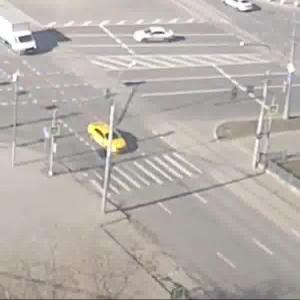car: (1, 1, 42, 57), (86, 122, 137, 155), (135, 27, 178, 46), (220, 1, 254, 18)
